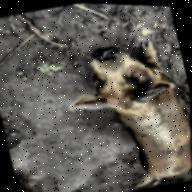boar: (52, 31, 192, 192)
